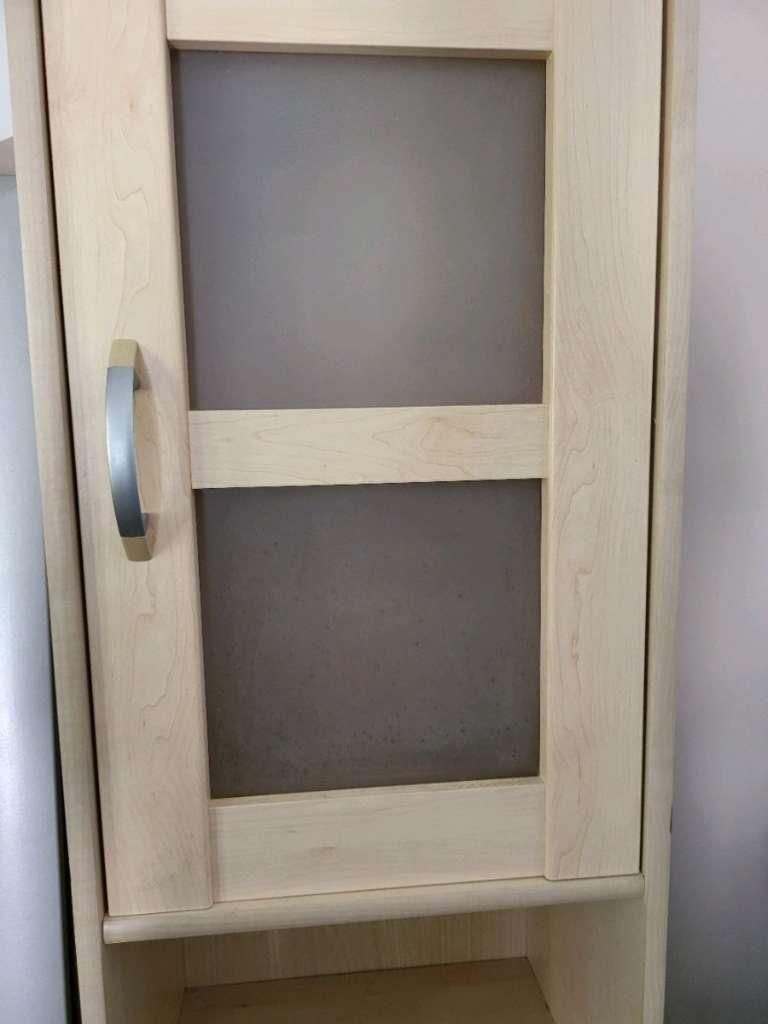cabinet_door: (60, 0, 628, 898)
handle: (92, 331, 157, 553)
